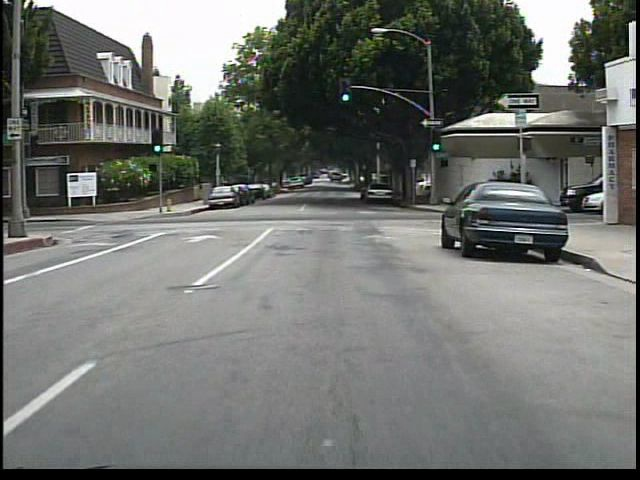person: (510, 170, 534, 212)
